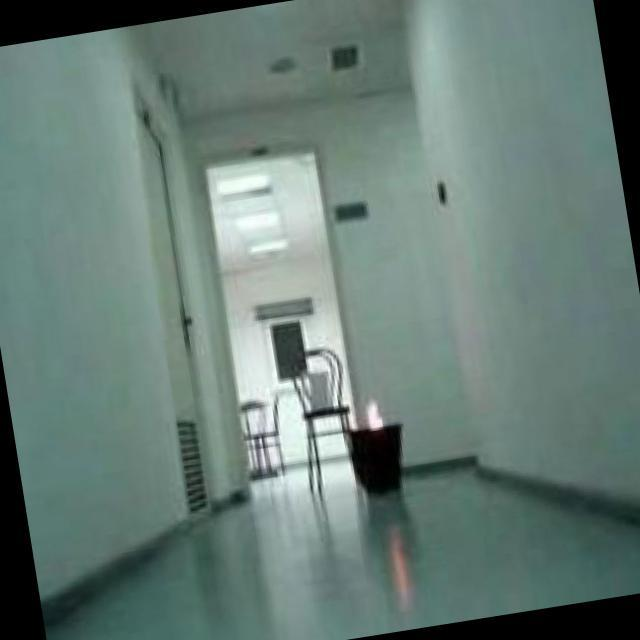Fire: (363, 399, 392, 434)
